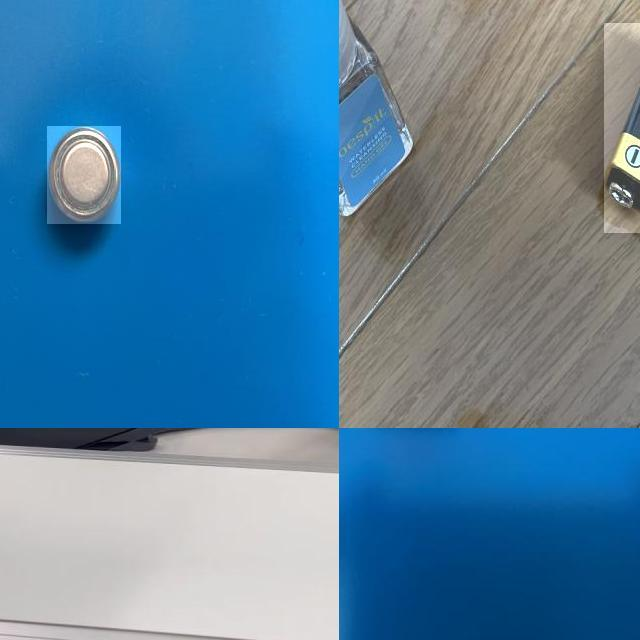9V: (604, 23, 640, 233)
